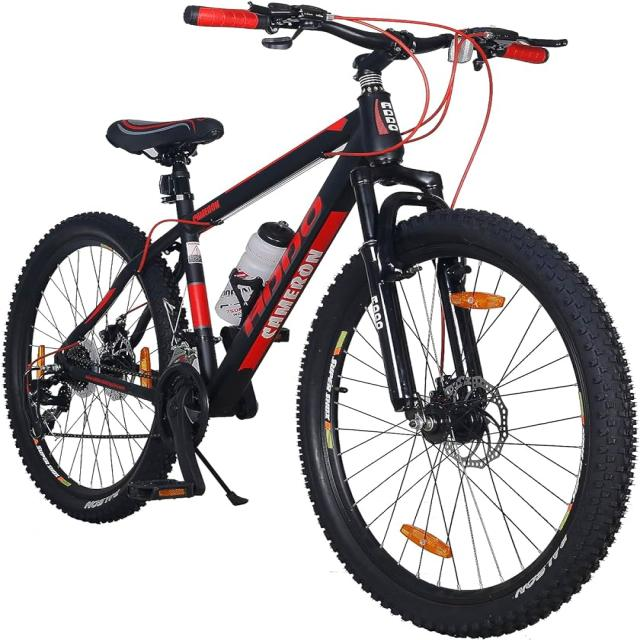bicycle: (4, 2, 634, 636)
